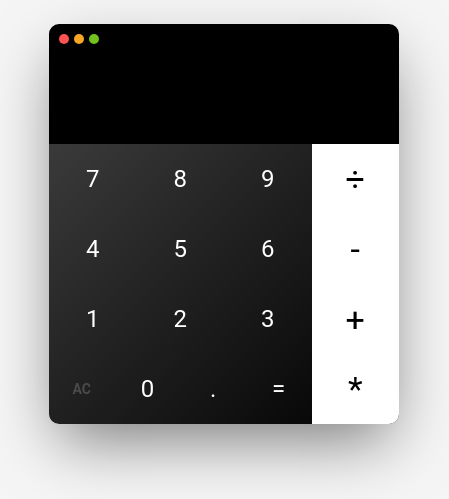
Calculator performs subtraction correctly
The image size is (449, 499).
Click the text "9" at (268, 179), box [261,165,274,193]
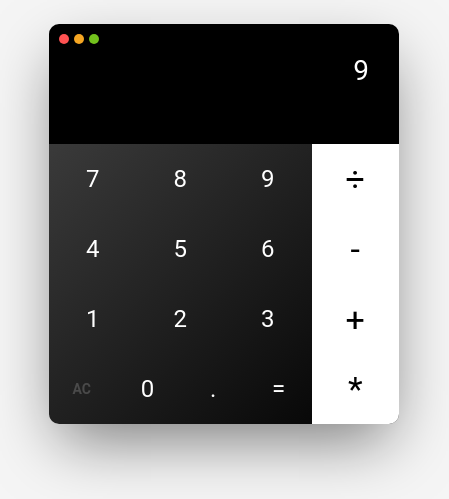
Click the text "0" at (147, 389), box [141,375,154,403]
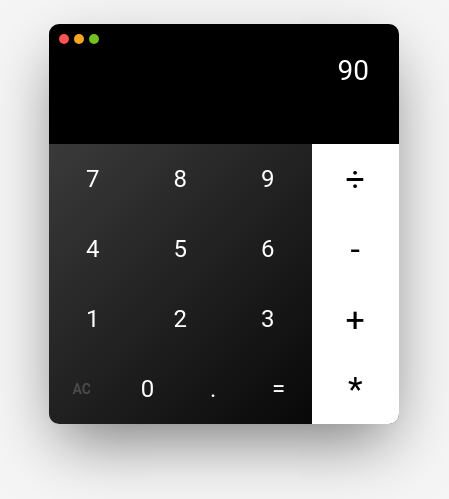
Click the text "-" at (355, 249), box [350,229,360,269]
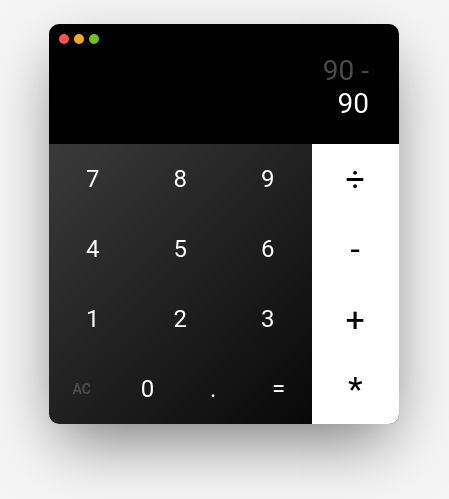
Click the text "5" at (180, 249), box [174,235,187,263]
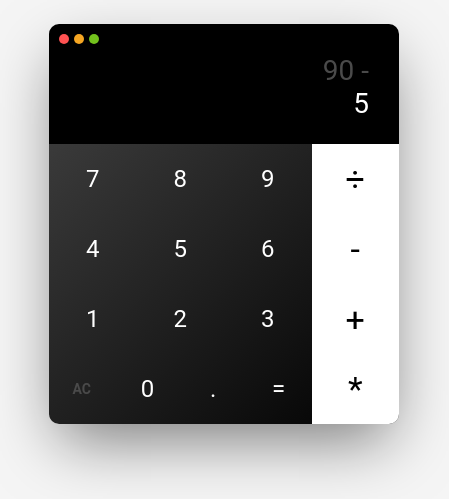
Click the text "0" at (147, 389), box [141,375,154,403]
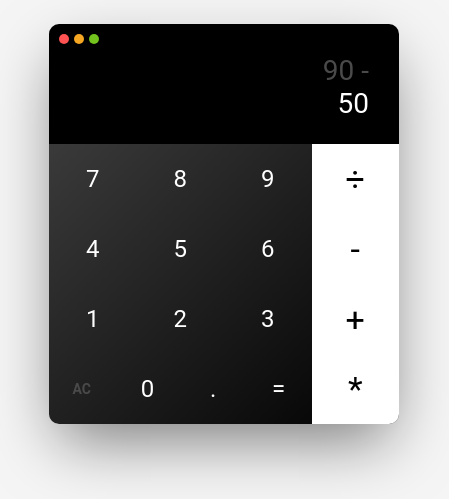
Click the text "=" at (279, 389), box [272,375,285,403]
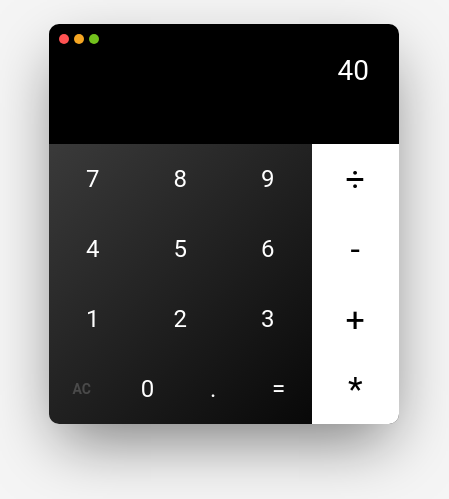
Expected: the text "40" is shown, [338,54,369,87]
